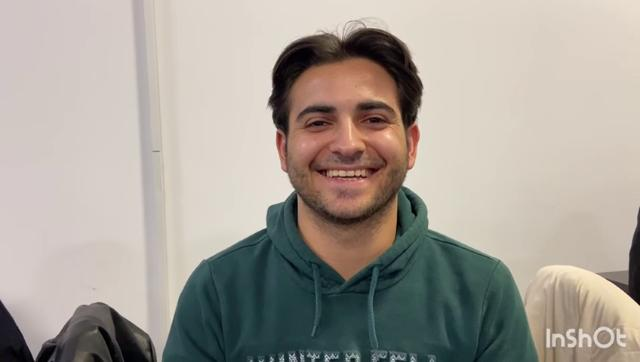senang: (288, 60, 408, 231)
